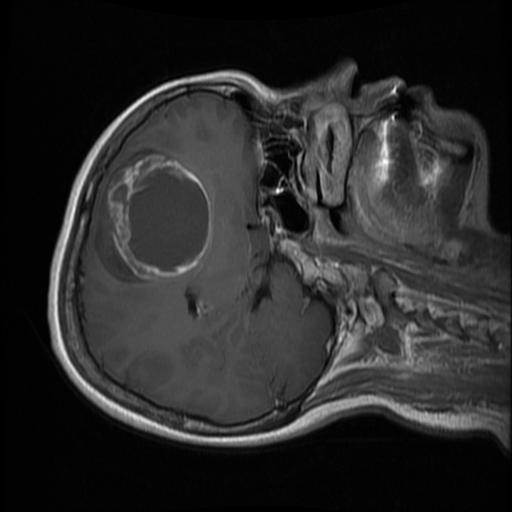glioma: (93, 147, 212, 283)
